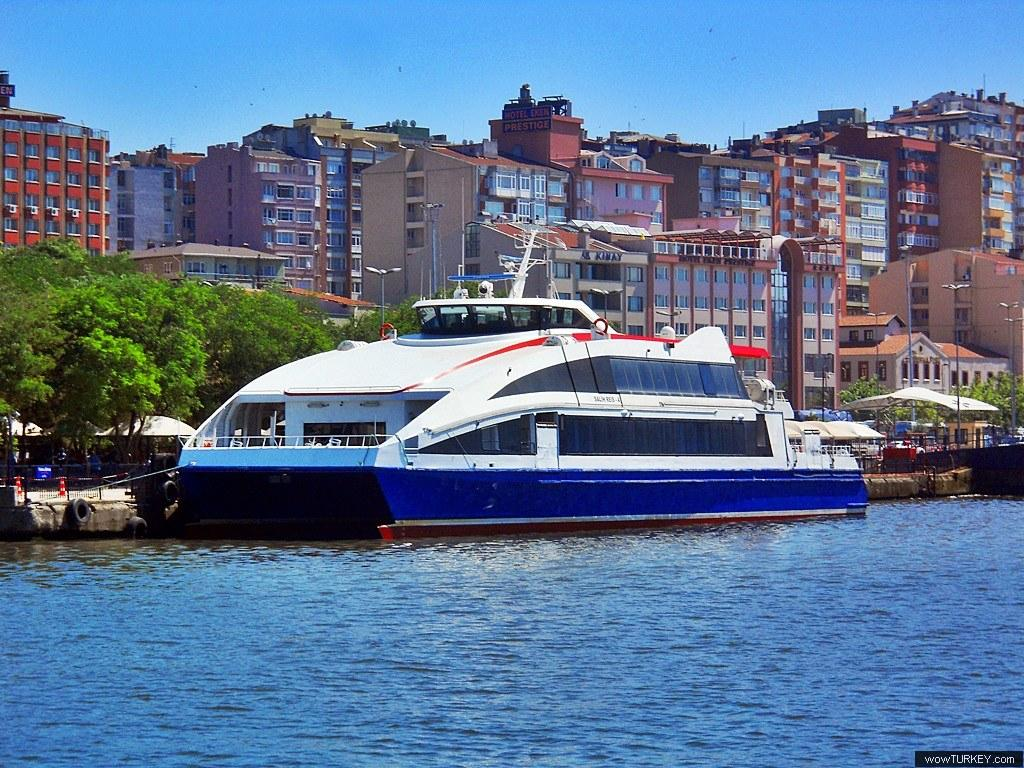PassengerShip: (157, 207, 877, 539)
